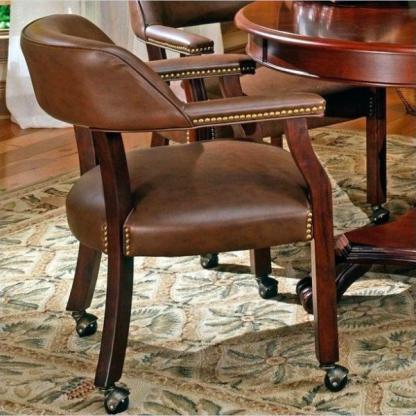chair: (14, 12, 357, 408), (128, 2, 396, 124)
